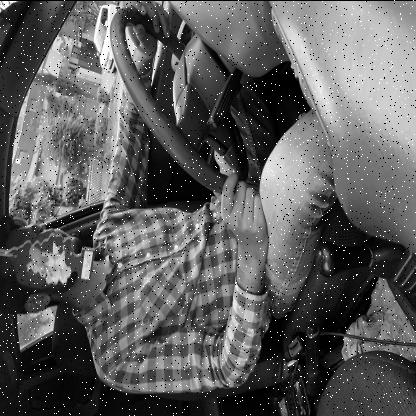no_seatbelt: (13, 208, 197, 350)
